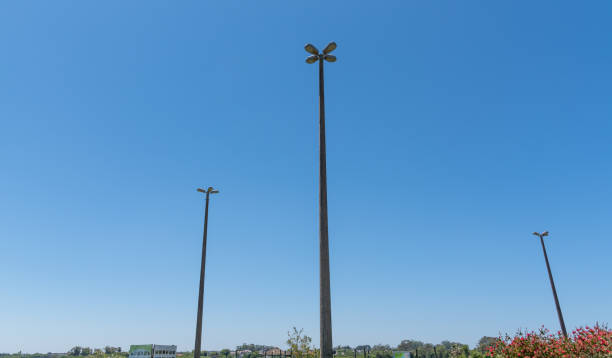light_pole: (316, 64, 336, 356), (192, 192, 209, 352)
